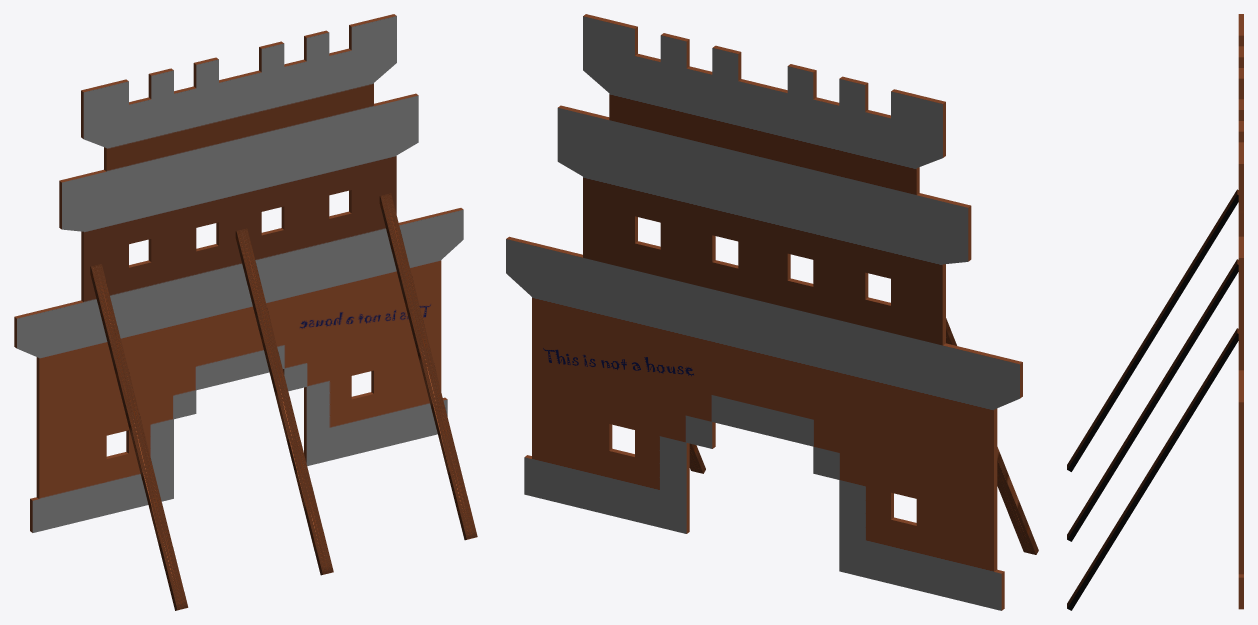
File: Fake_house.FBX
3 renders of one model, left to right at view 1: azimuth 30°, elevation 25°; view 2: azimuth 150°, elevation 25°; view 3: azimuth 270°, elevation 25°, orthographic. The views are drawn at different scales.
Parts seen in each view (by area): view 1: Box002; view 2: Box002; view 3: Box002.
Part boxes in pixels (x1,y1,x2,y2): Box002: [14, 14, 477, 610]; Box002: [506, 14, 1038, 610]; Box002: [1067, 14, 1243, 610].
Bounding box in the file's own units: 199 × 195 × 69.34.
